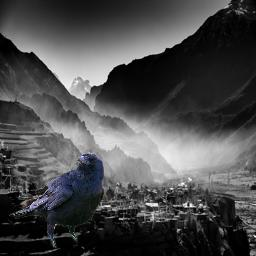Crow: (9, 152, 104, 248)
